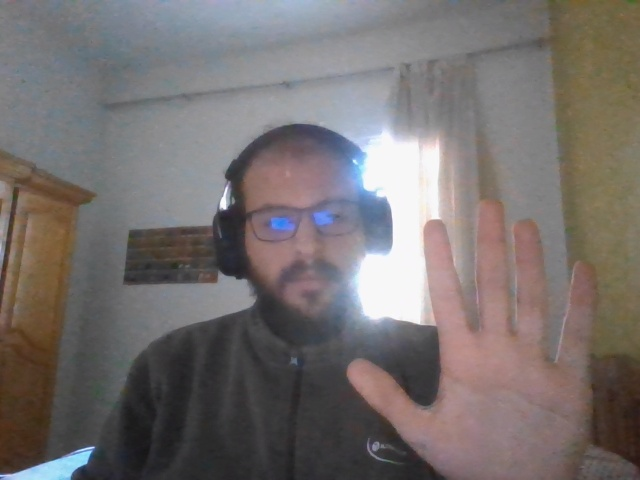Hello: (346, 199, 598, 480)
